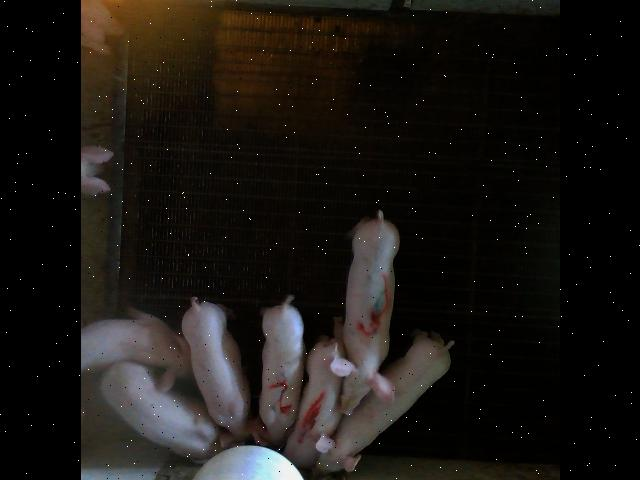pig-1: (283, 318, 345, 468)
pig-3: (330, 210, 399, 414)
pig-5: (259, 295, 305, 445)
